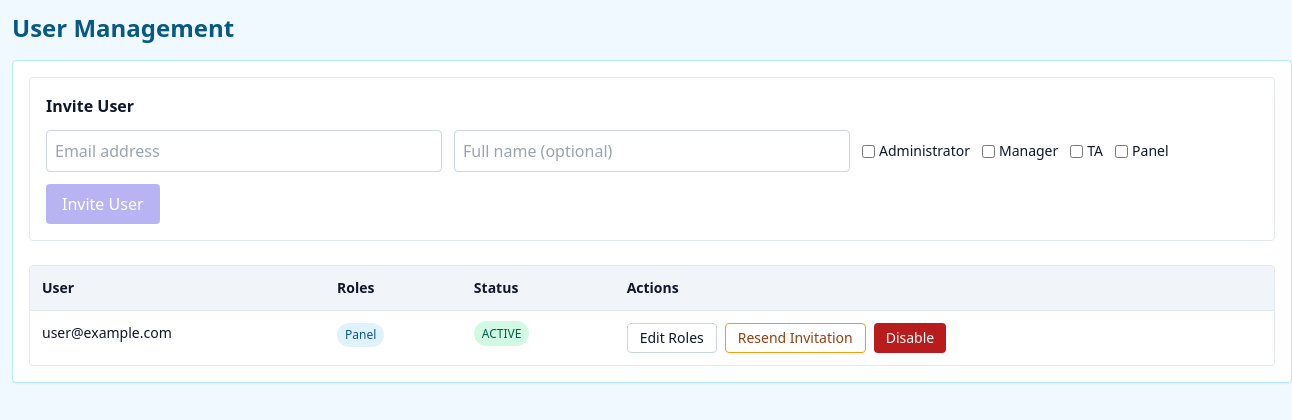
Test: UsersPage password reset › explains when a temporary password invitation was resent
This screenshot has width=1292, height=420.
Step 1. Click the button "Resend Invitation" → point(795, 338), box [725,323,866,353]
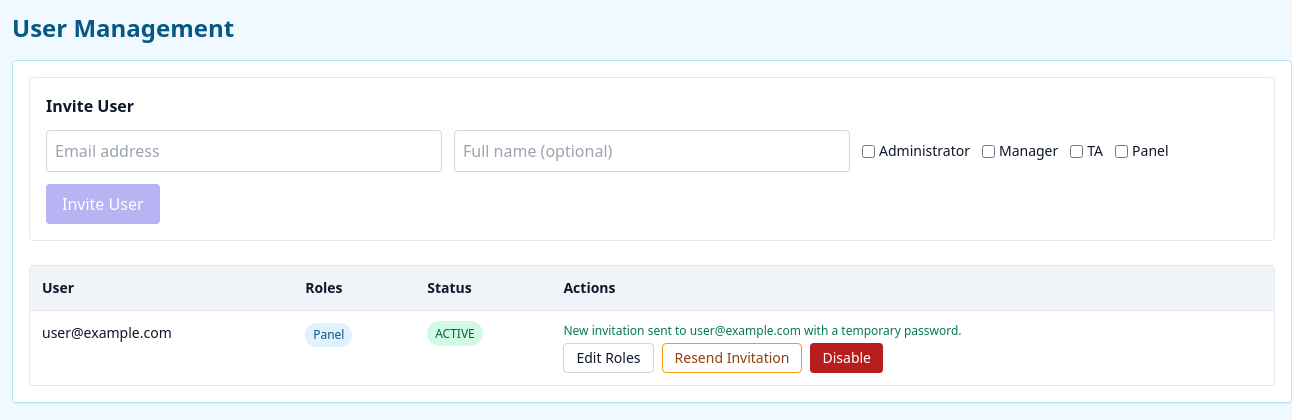
Result: the text "New invitation sent to user@example.com with a temporary password." is shown at [564,322,962,339]
